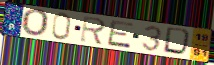0: (51, 11, 72, 41)
3: (140, 25, 165, 52)
D: (162, 26, 194, 58)
E: (106, 19, 136, 50)
O: (21, 8, 52, 38)
R: (79, 15, 108, 47)
